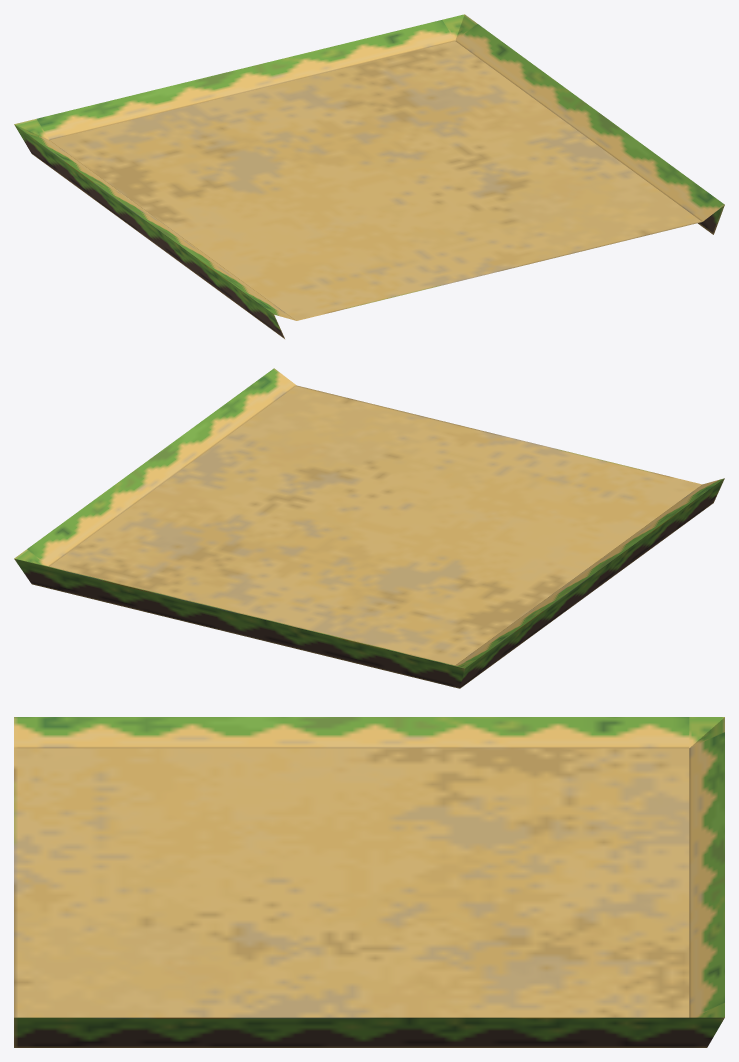
The model's file is Top_Path_End.obj.
3 views of the same model, one above another, from view 1: azimuth 30°, elevation 25°; view 2: azimuth 150°, elevation 25°; view 3: azimuth 270°, elevation 25° (orthographic). The views are drawn at different scales.
Visible parts, largest first — view 1: Top_Path_End_Cube.011; view 2: Top_Path_End_Cube.011; view 3: Top_Path_End_Cube.011.
Part boxes in pixels (x1,y1,x2,y2): Top_Path_End_Cube.011: (14,14,724,338); Top_Path_End_Cube.011: (14,368,724,688); Top_Path_End_Cube.011: (14,717,724,1047).
Bounding box in the file's own units: 2 × 0.1175 × 2.
